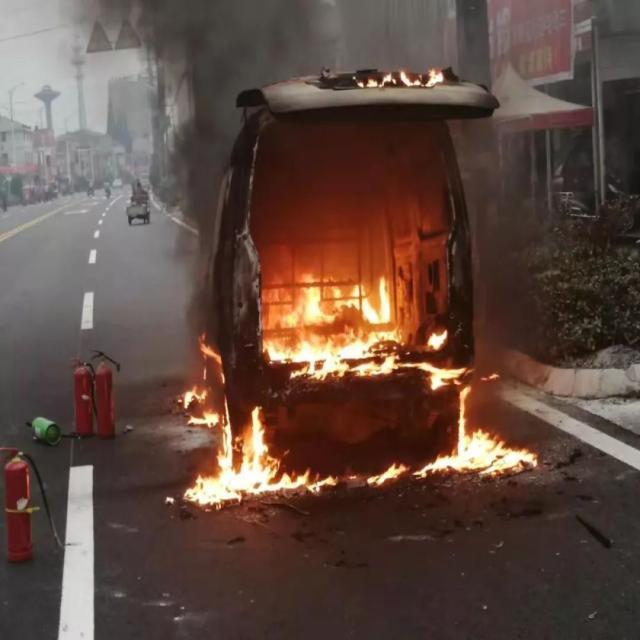Fire: (268, 278, 448, 382), (178, 409, 282, 506), (452, 380, 538, 476), (180, 340, 226, 408), (368, 454, 453, 486), (284, 468, 333, 494)
